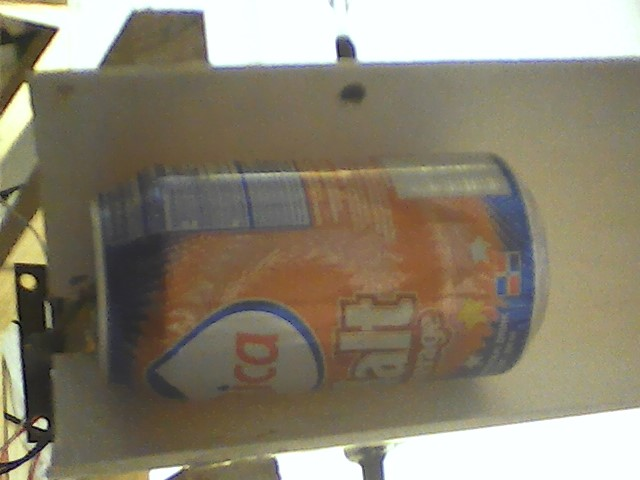lata: (85, 148, 557, 403)
